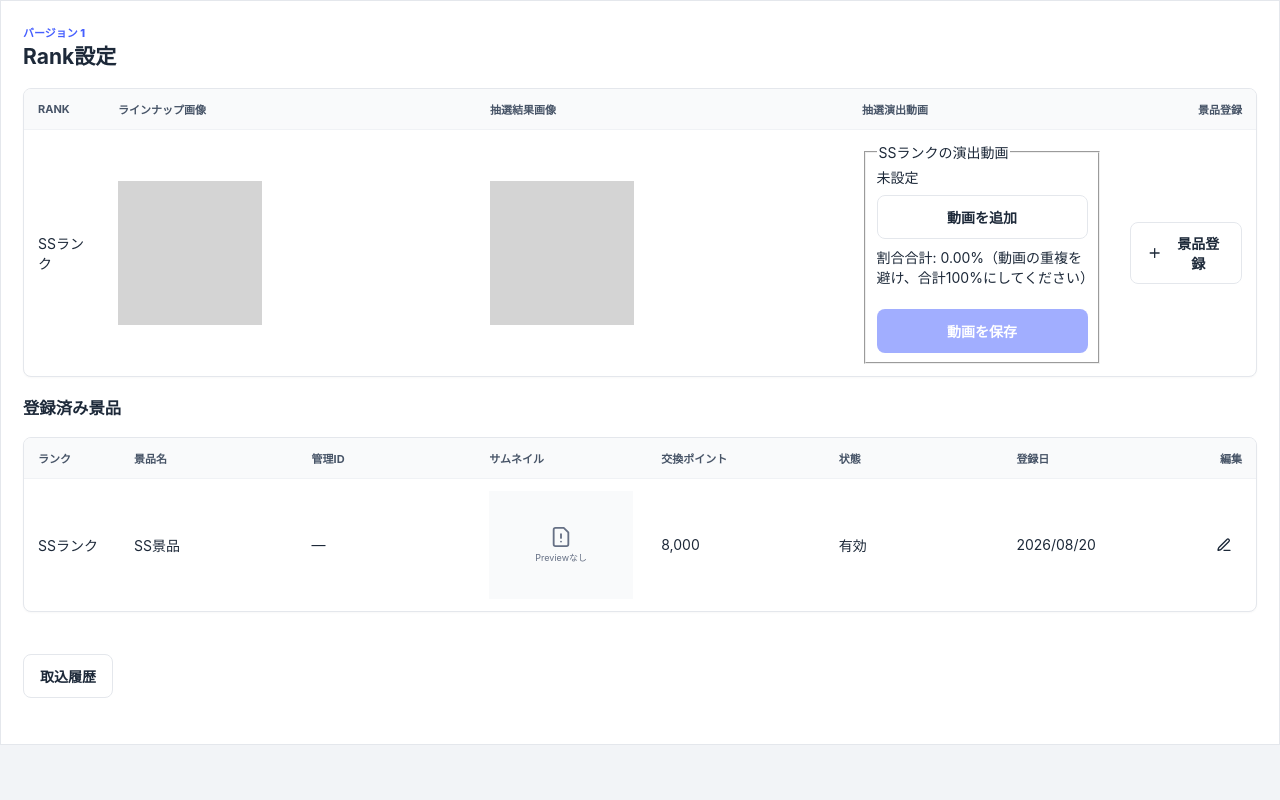
Test: Canonical Gacha Rank and Prize manager › keeps published shipping-only conditions visible and immutable
What coordinates should you click on to do the following:
click the button named "SS景品を編集"
I would click on:
 (1224, 545)
Its box is top-left (1206, 527), bottom-right (1242, 563).
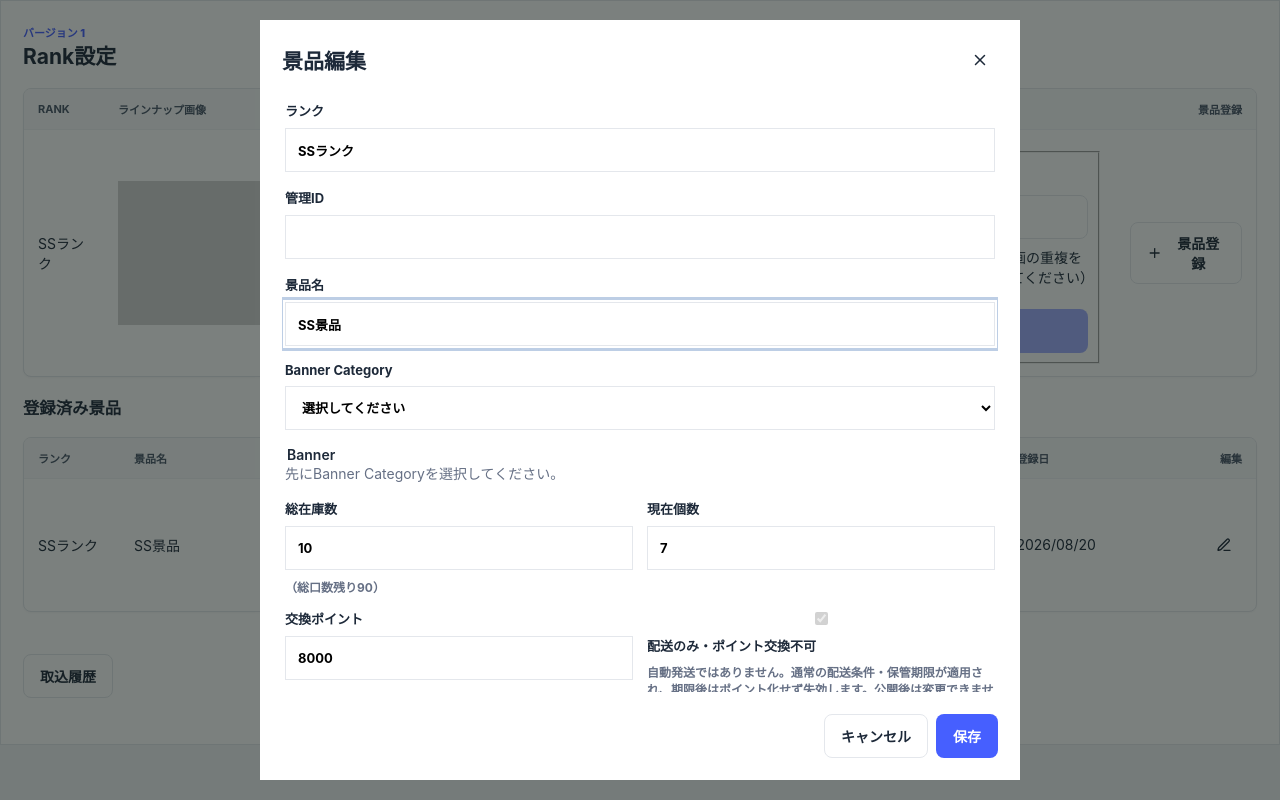
Check: the checkbox labelled "配送のみ・ポイント交換不可" is checked, box top-left (651, 612), bottom-right (992, 625)
Check: the checkbox labelled "配送のみ・ポイント交換不可" is disabled, box top-left (651, 612), bottom-right (992, 625)
